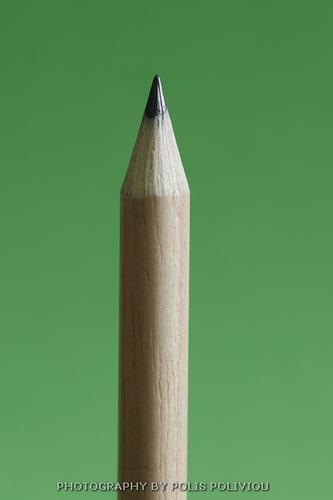pen_tip: (115, 71, 202, 227)
